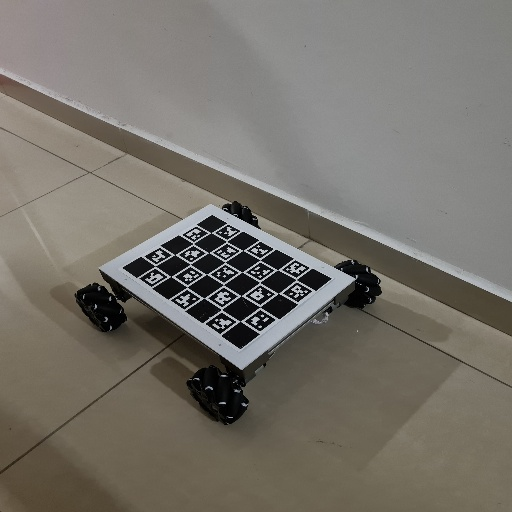Omniwheel: (73, 201, 385, 428)
